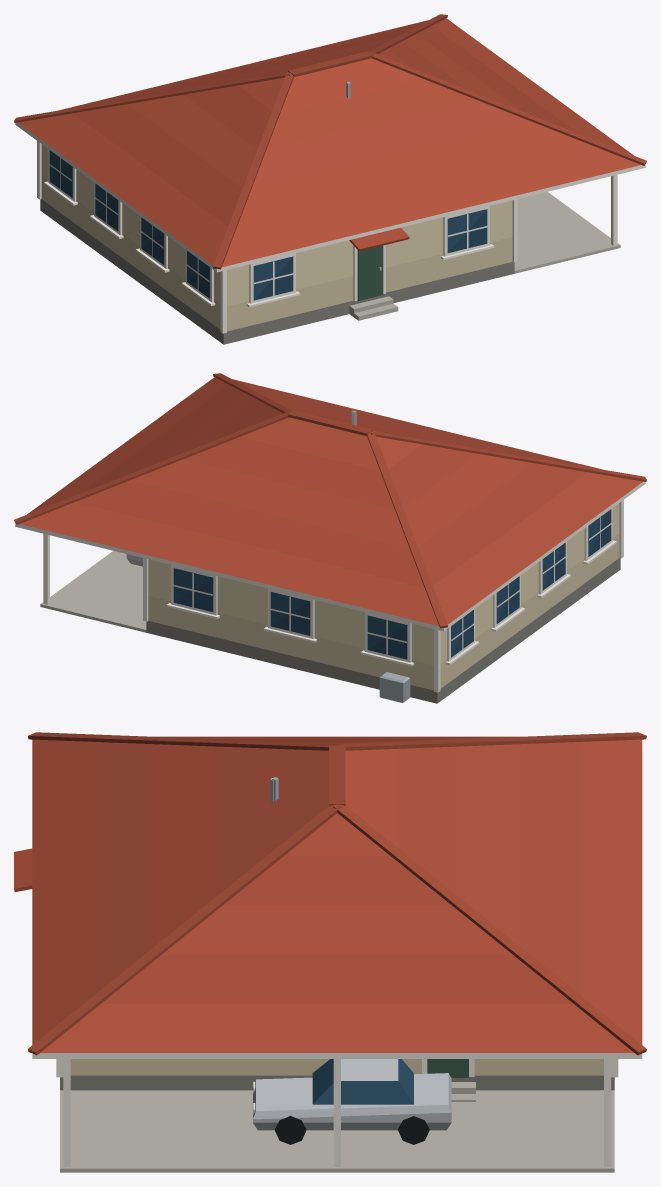
File: house_15x12.glb
3 views of the same model, one above another, from view 1: azimuth 30°, elevation 25°; view 2: azimuth 150°, elevation 25°; view 3: azimuth 270°, elevation 25° (orthographic). The views are drawn at different scales.
Visible parts, largest first — view 1: house; view 2: house; view 3: house.
Boxes of the visible parts, x1,y1,x2,y2 form: house: (14, 14, 646, 344); house: (14, 373, 646, 703); house: (14, 732, 646, 1172).
Bounding box in the file's own units: 16.4 × 6.01 × 13.7.
